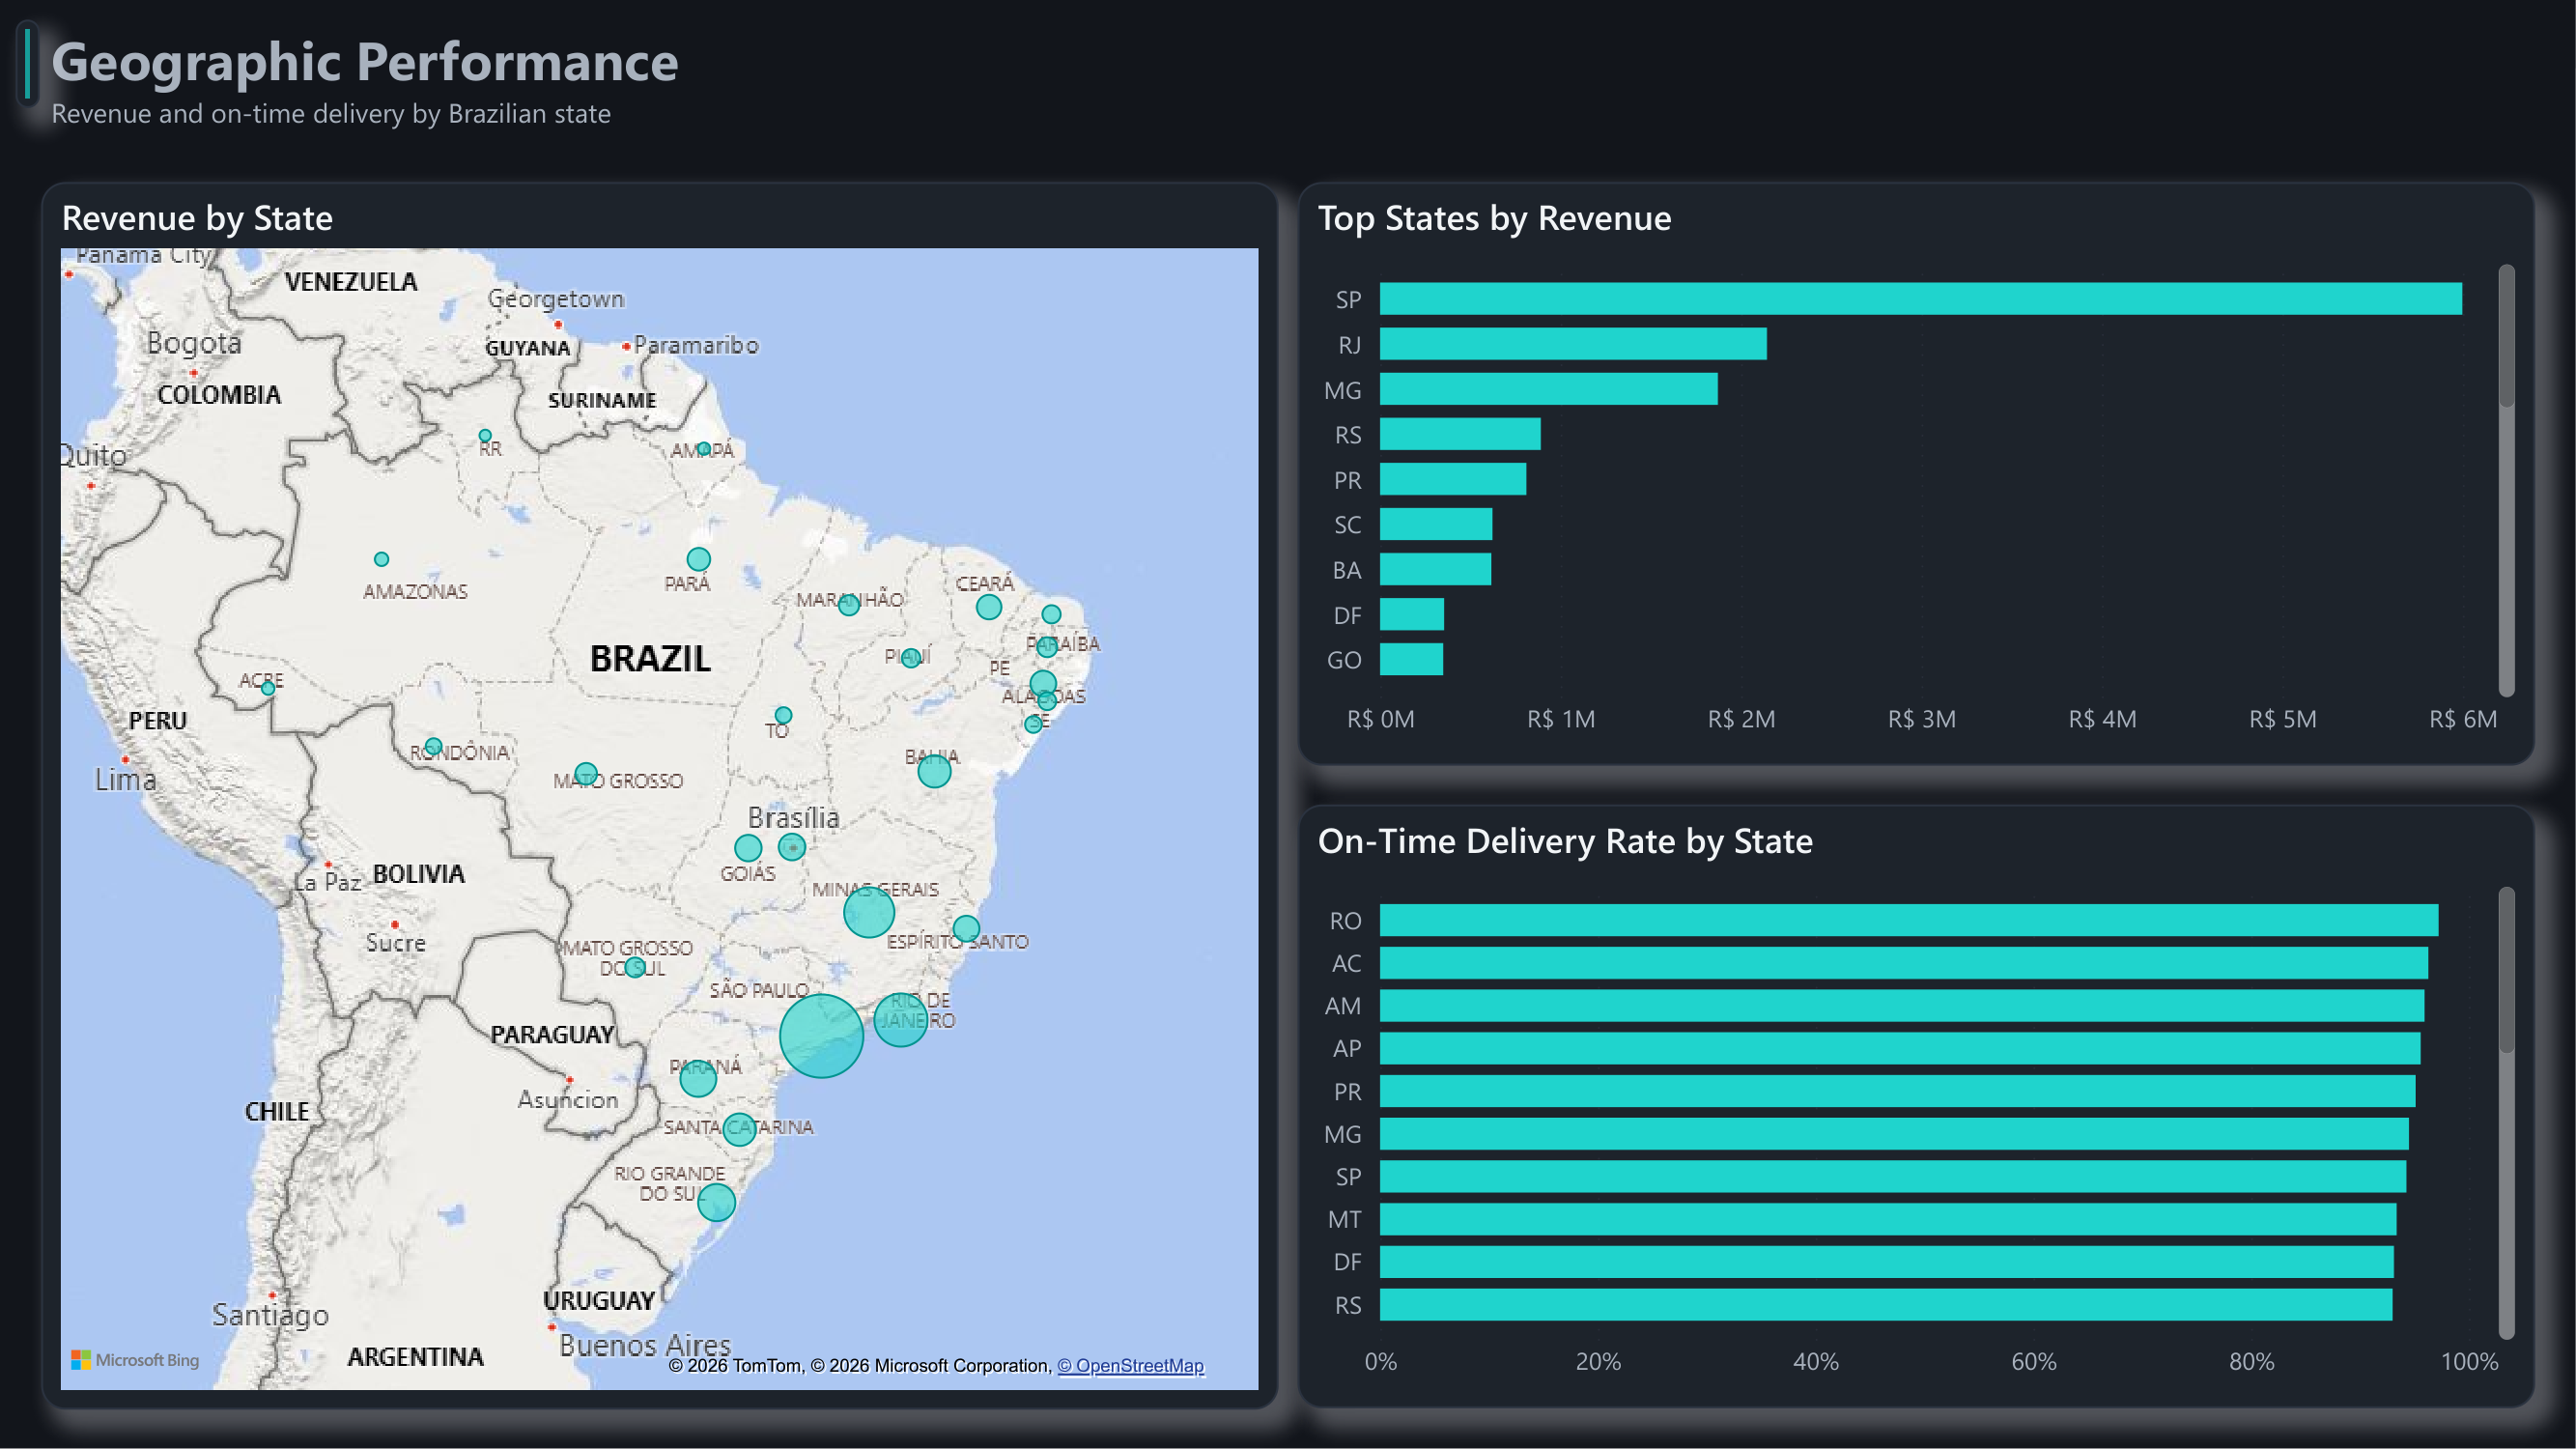

The dashboard page shown, as its layout file describes it:
{"tool":"powerbi","page":{"name":"Geography","canvas":[1280,720],"ordinal":1},"visuals":[{"type":"map","title":"Revenue by State","fields":{"Size":["olist_master_powerbi.Total Revenue"],"Y":["Brazil_States.Latitude"],"X":["Brazil_States.Longitude"]},"box":[20,90,615,610],"z":0},{"type":"clusteredBarChart","title":"Top States by Revenue","fields":{"Category":["olist_master_powerbi.customer_state"],"Y":["olist_master_powerbi.Total Revenue"]},"box":[645,90,615,290],"z":1000},{"type":"clusteredBarChart","title":"On-Time Delivery Rate by State","fields":{"Category":["olist_master_powerbi.customer_state"],"Y":["olist_master_powerbi.On-Time Delivery Rate"]},"box":[645,400,615,300],"z":2000},{"type":"textbox","box":[20,6,780,66],"z":3000},{"type":"shape","box":[8,10,12,44],"z":4000}]}

Visuals, with their boxes in screenshot pixels (x1, y1, x2, y2), scaled from the page's 1280x720 canvas onto the 2576x1449 screenshot:
"Revenue by State" map: x1=41, y1=182, x2=1278, y2=1408
"Top States by Revenue" clusteredBarChart: x1=1298, y1=182, x2=2535, y2=765
"On-Time Delivery Rate by State" clusteredBarChart: x1=1298, y1=805, x2=2535, y2=1408
textbox: x1=41, y1=12, x2=1610, y2=145
shape: x1=16, y1=20, x2=41, y2=109
